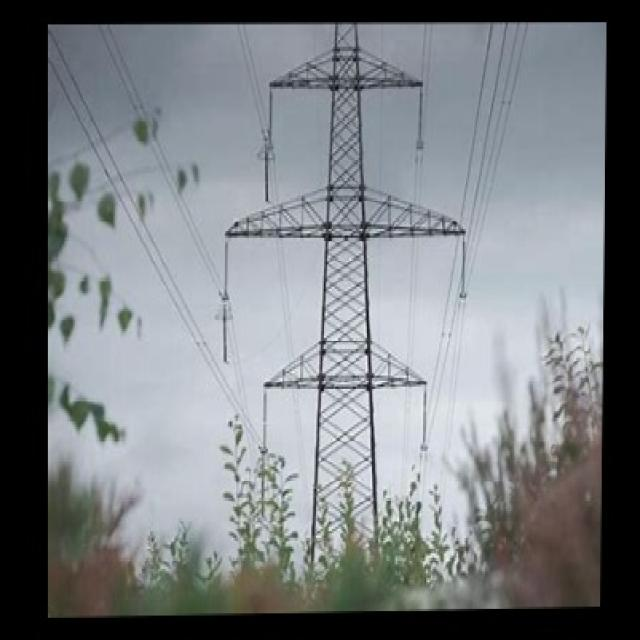utility poles: (230, 365, 458, 586)
